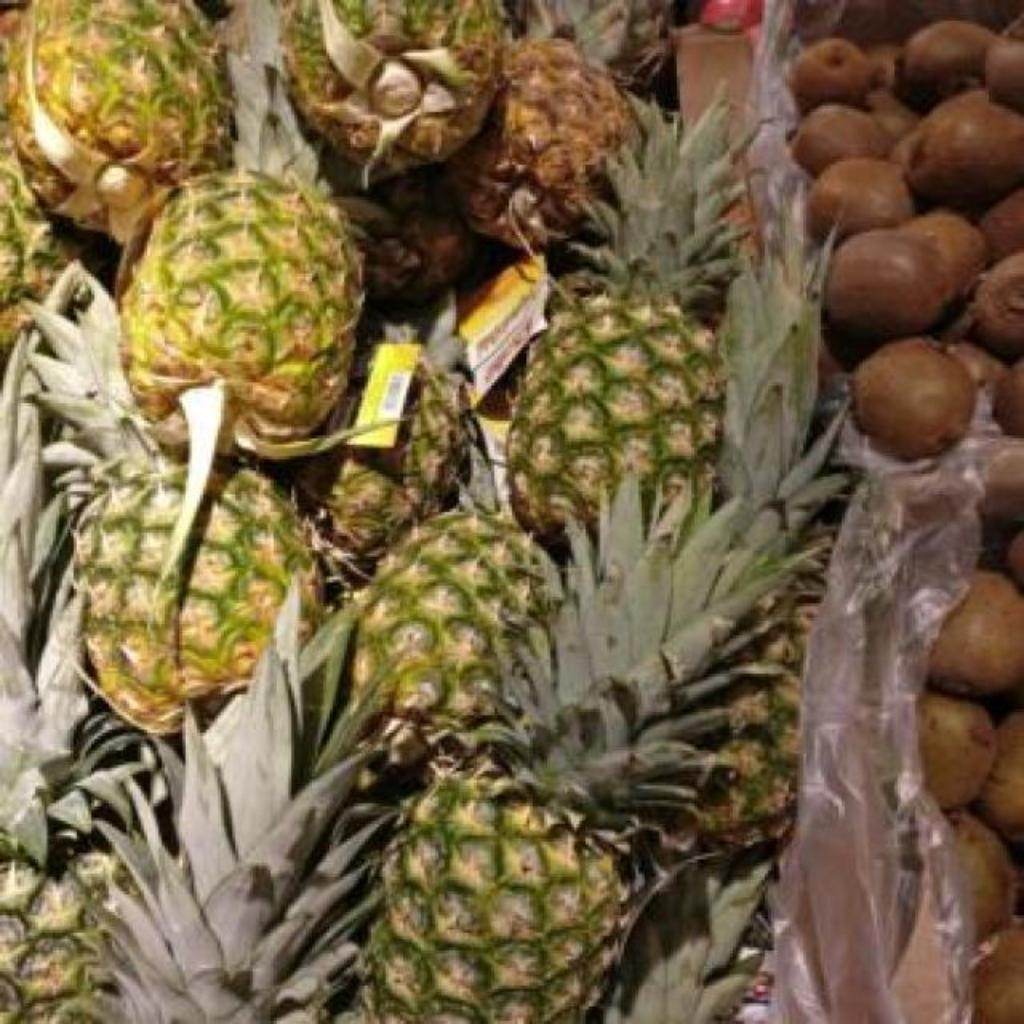pineapple: (368, 490, 798, 1024), (118, 0, 364, 576), (16, 266, 316, 733), (508, 105, 742, 539), (0, 332, 134, 1023), (8, 0, 228, 243), (306, 290, 474, 567), (496, 0, 672, 245), (356, 514, 548, 727), (284, 0, 502, 183)
